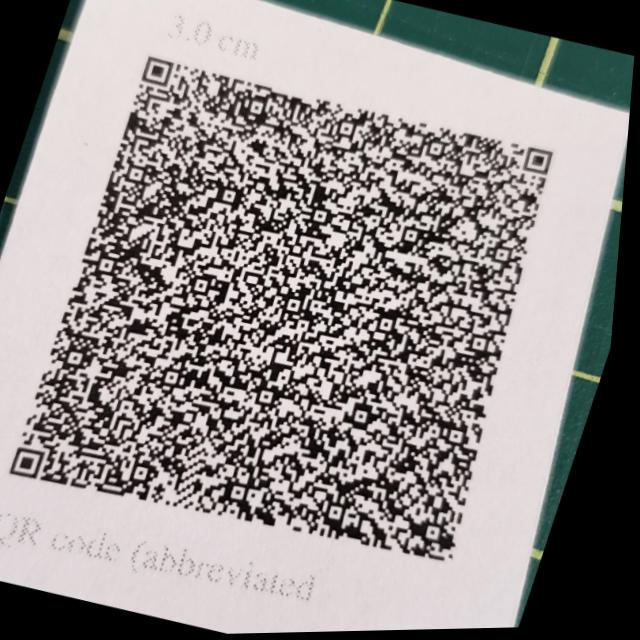QR_CODE: (0, 6, 628, 604)
